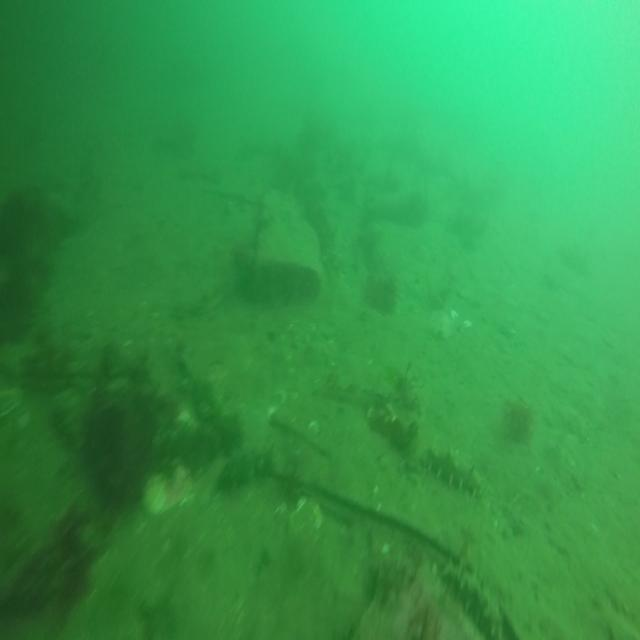holothurian: (434, 555, 503, 635), (420, 446, 482, 496)
